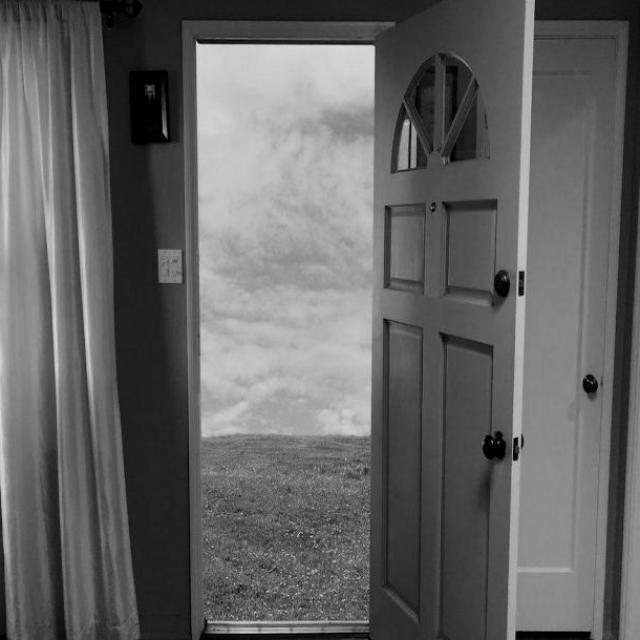door: (366, 1, 521, 640)
